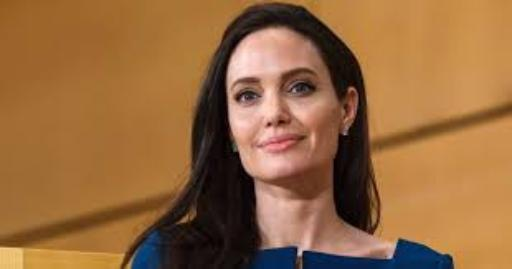left_eye: (289, 83, 317, 95)
left_lip_corner: (298, 133, 313, 142)
right_eye: (235, 91, 261, 104)
right_lip_corner: (254, 143, 266, 151)
